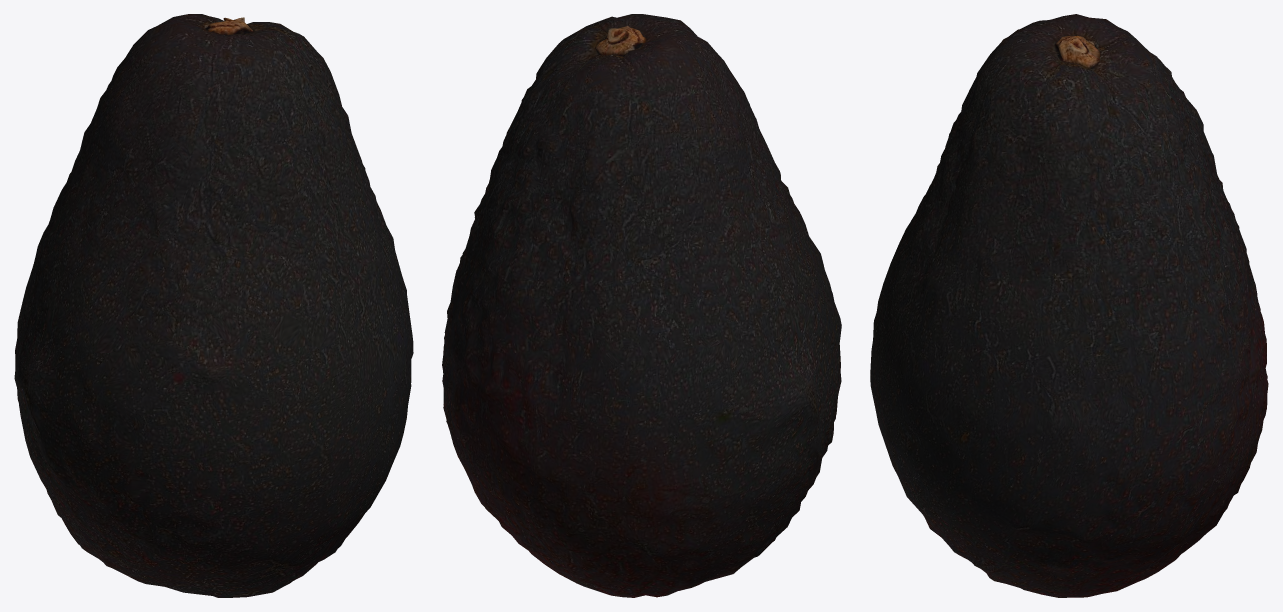
The model's file is food_avocado_01_1k.gltf.
3 views of the same model, side by side, from view 1: azimuth 30°, elevation 25°; view 2: azimuth 150°, elevation 25°; view 3: azimuth 270°, elevation 25° (orthographic). The views are drawn at different scales.
Parts seen in each view (by area): view 1: food_avocado_01; view 2: food_avocado_01; view 3: food_avocado_01.
Part boxes in pixels (left/top/right/bottom): food_avocado_01: left=14, top=14, right=413, bottom=597; food_avocado_01: left=442, top=14, right=841, bottom=597; food_avocado_01: left=870, top=14, right=1268, bottom=597.
Size of the model in its own units: 0.0952 by 0.1432 by 0.0946.
1 material, 1 textured.
